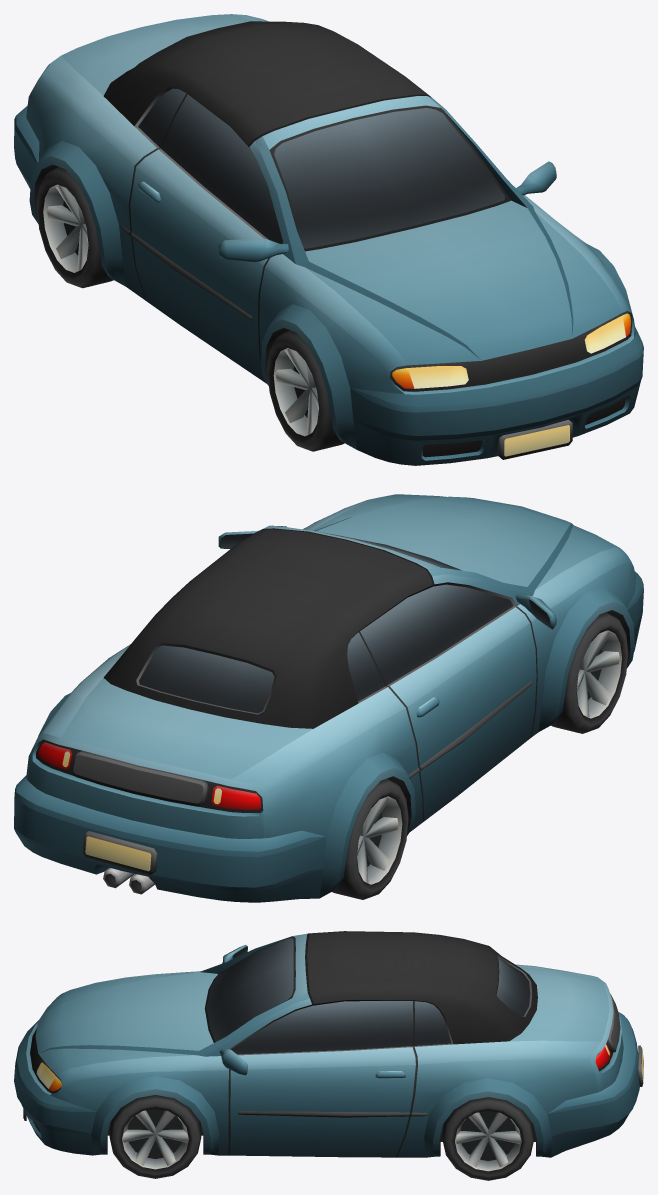
The model's file is VHC0110006.FBX.
3 renders of one model, top to bottom at view 1: azimuth 30°, elevation 25°; view 2: azimuth 150°, elevation 25°; view 3: azimuth 270°, elevation 25°, orthographic. The views are drawn at different scales.
Visible parts, largest first — view 1: smVHC0110006; view 2: smVHC0110006; view 3: smVHC0110006.
Part boxes in pixels (left/top/right/bottom): smVHC0110006: left=14, top=14, right=643, bottom=465; smVHC0110006: left=14, top=494, right=643, bottom=902; smVHC0110006: left=14, top=931, right=643, bottom=1180.
Size of the model in its own units: 1.68 by 1.11 by 3.67.
1 material, 1 textured.
